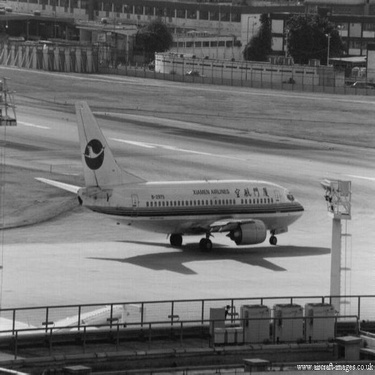airplane: (22, 89, 309, 257)
